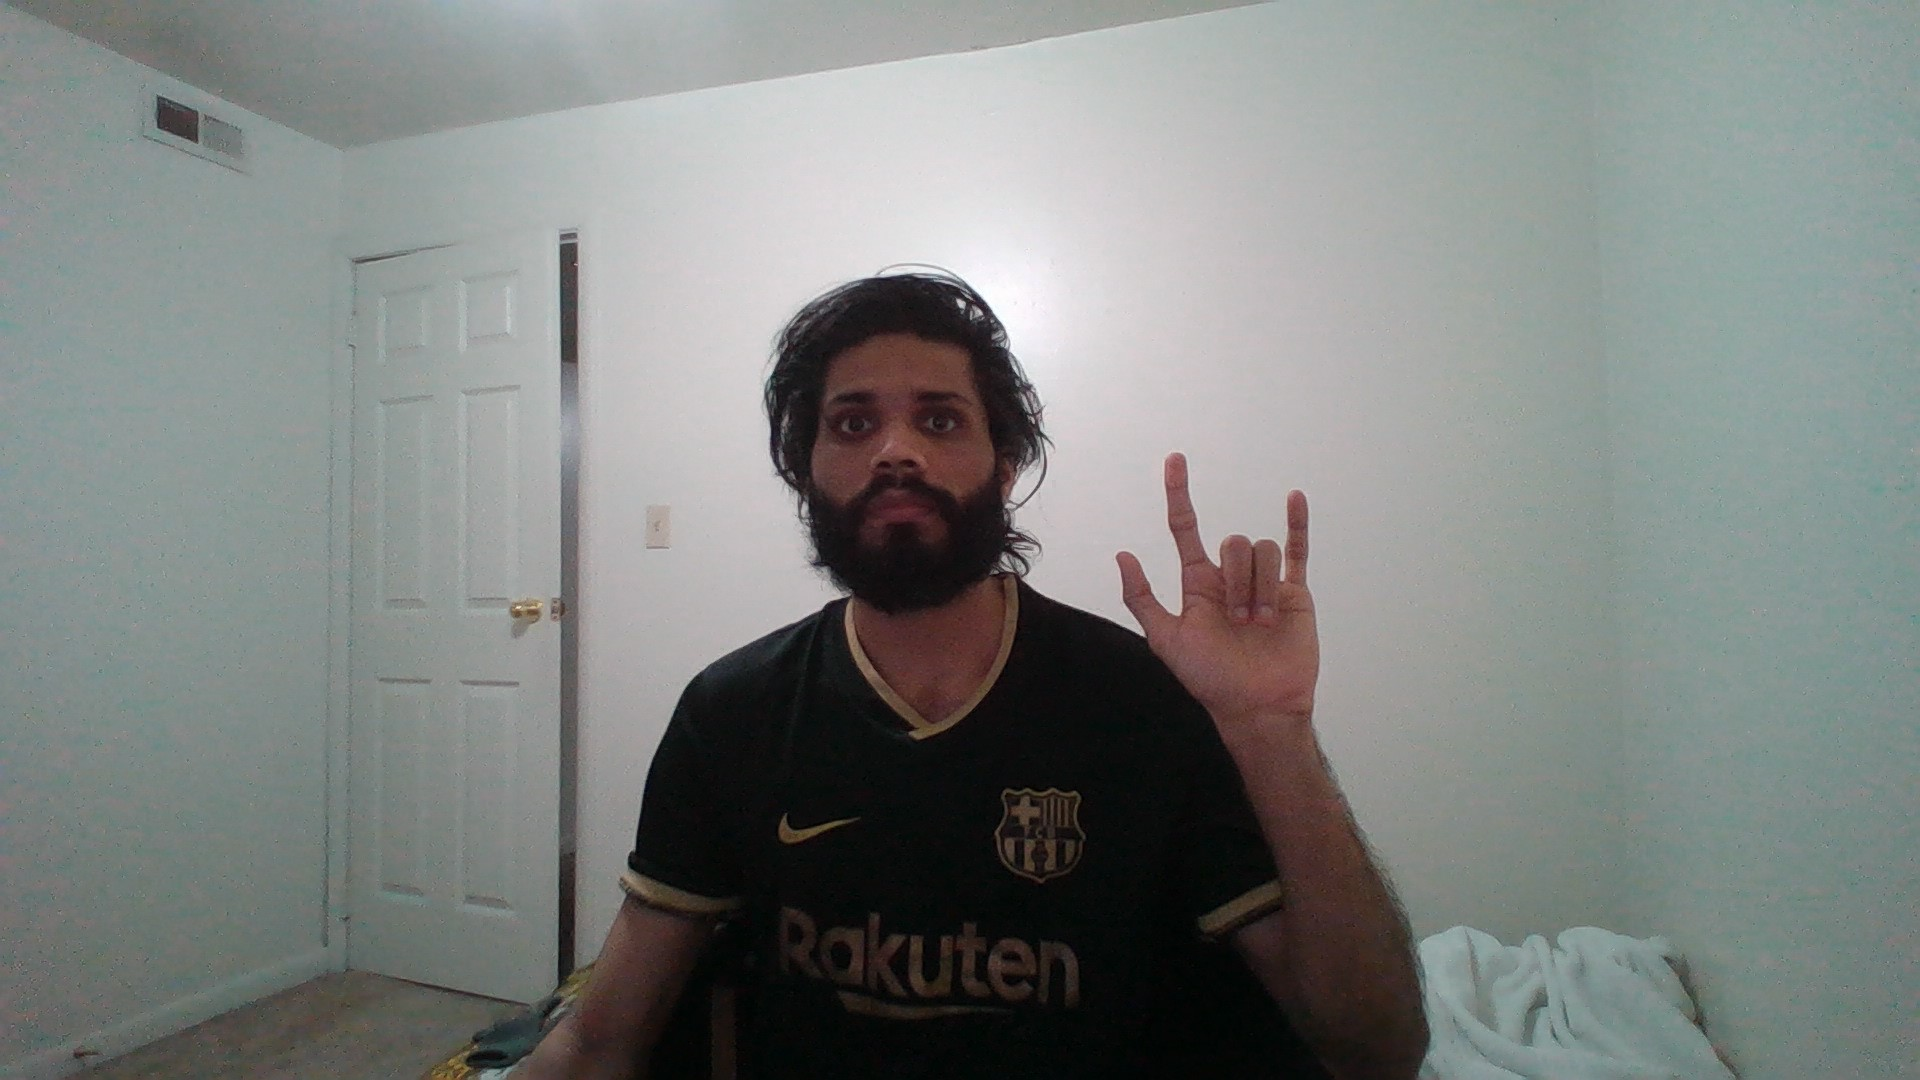IloveYou: (1084, 436, 1396, 767)
